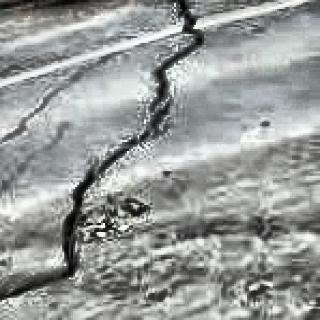crack: (28, 0, 271, 269)
